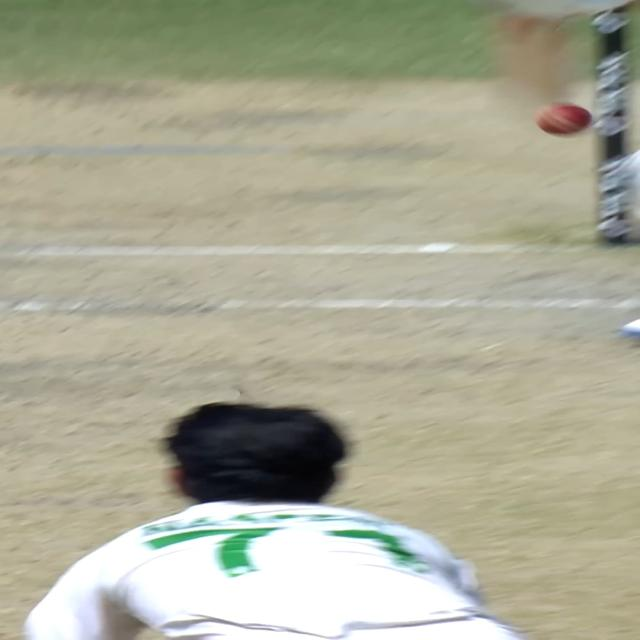Cricket ball: (532, 101, 596, 141)
